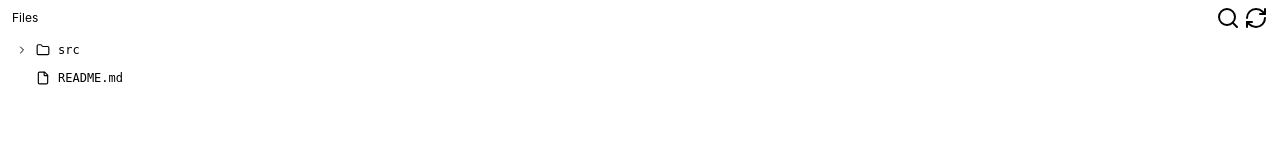
Test: expands folders and preserves opening a file in the default app
Check: the button "app.ts" is not shown
Click the button "src": (22, 50) [8,36,1272,64]
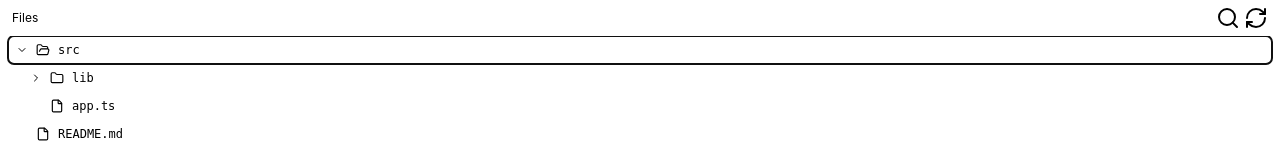
Click the button "app.ts": (94, 106) [8,92,1272,120]
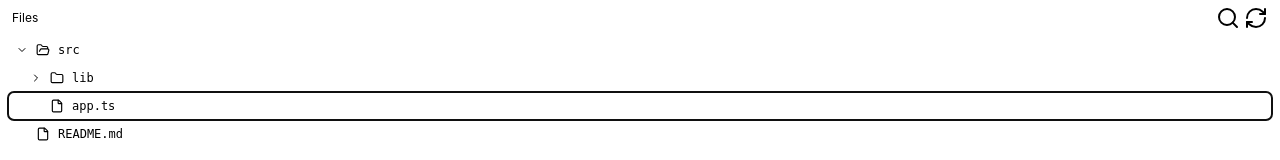
Click the button "src": (22, 50) [8,36,1272,64]
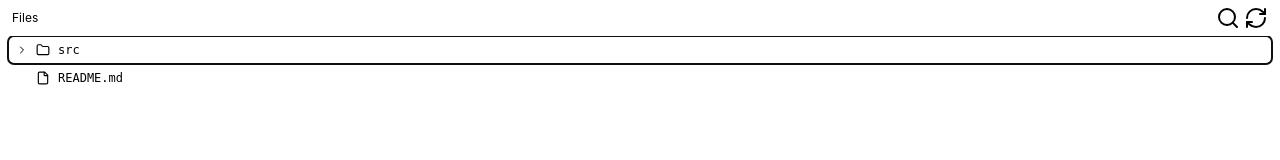
Check: the button "app.ts" is gone
